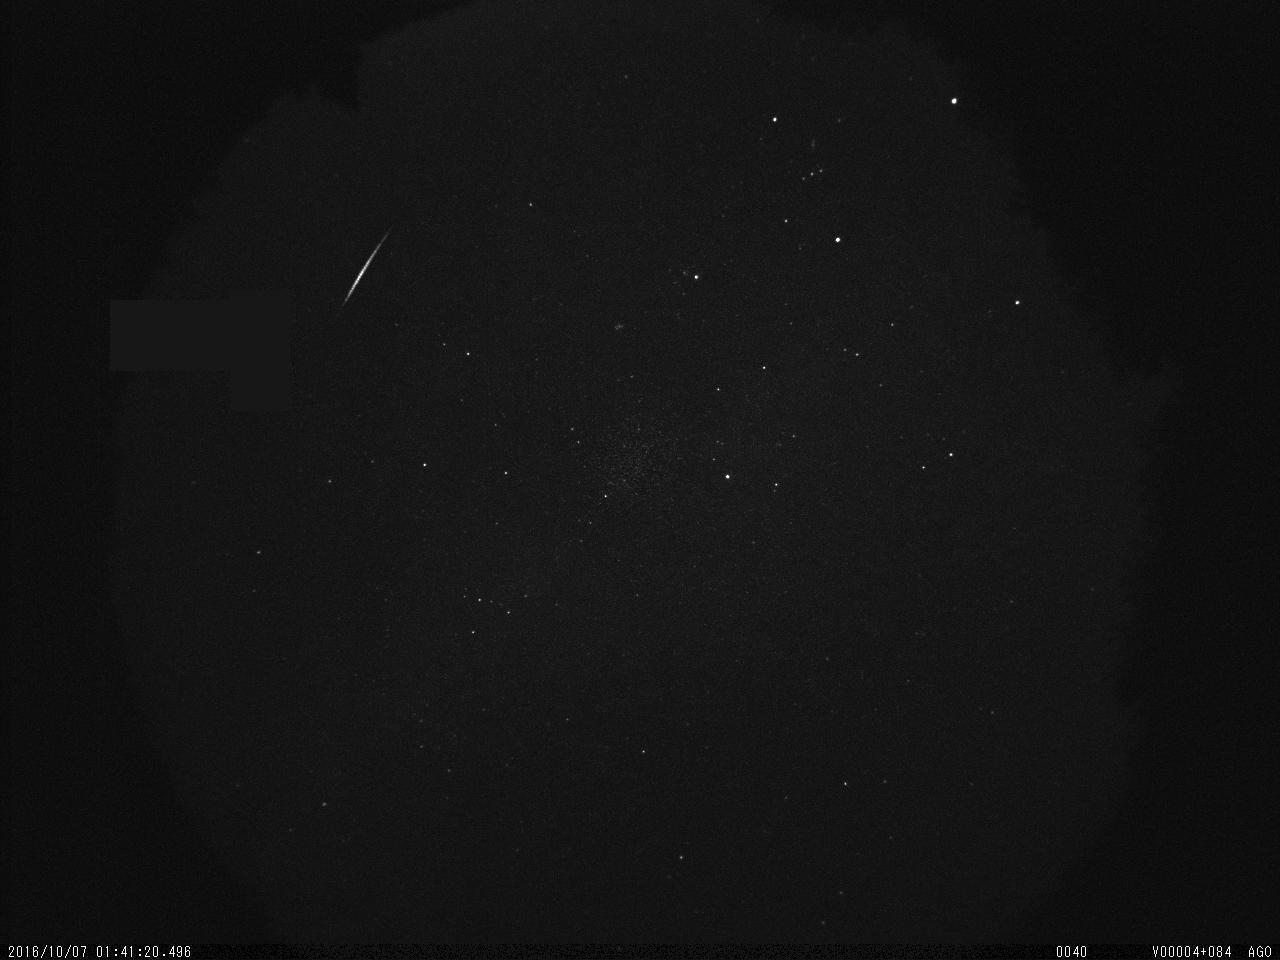meteor: (304, 206, 444, 322)
